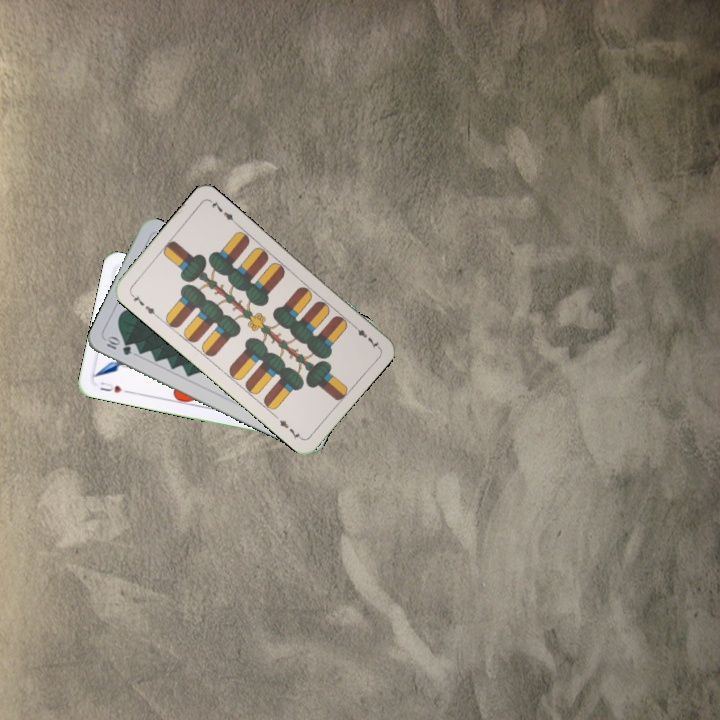E7: (126, 289, 160, 320), (348, 320, 381, 351)
G10: (102, 333, 134, 358)
HU: (95, 378, 132, 396)
